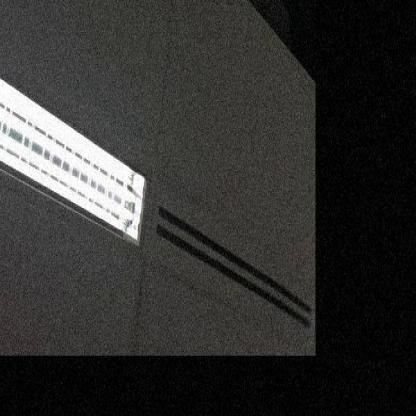light_on: (0, 0, 155, 267)
